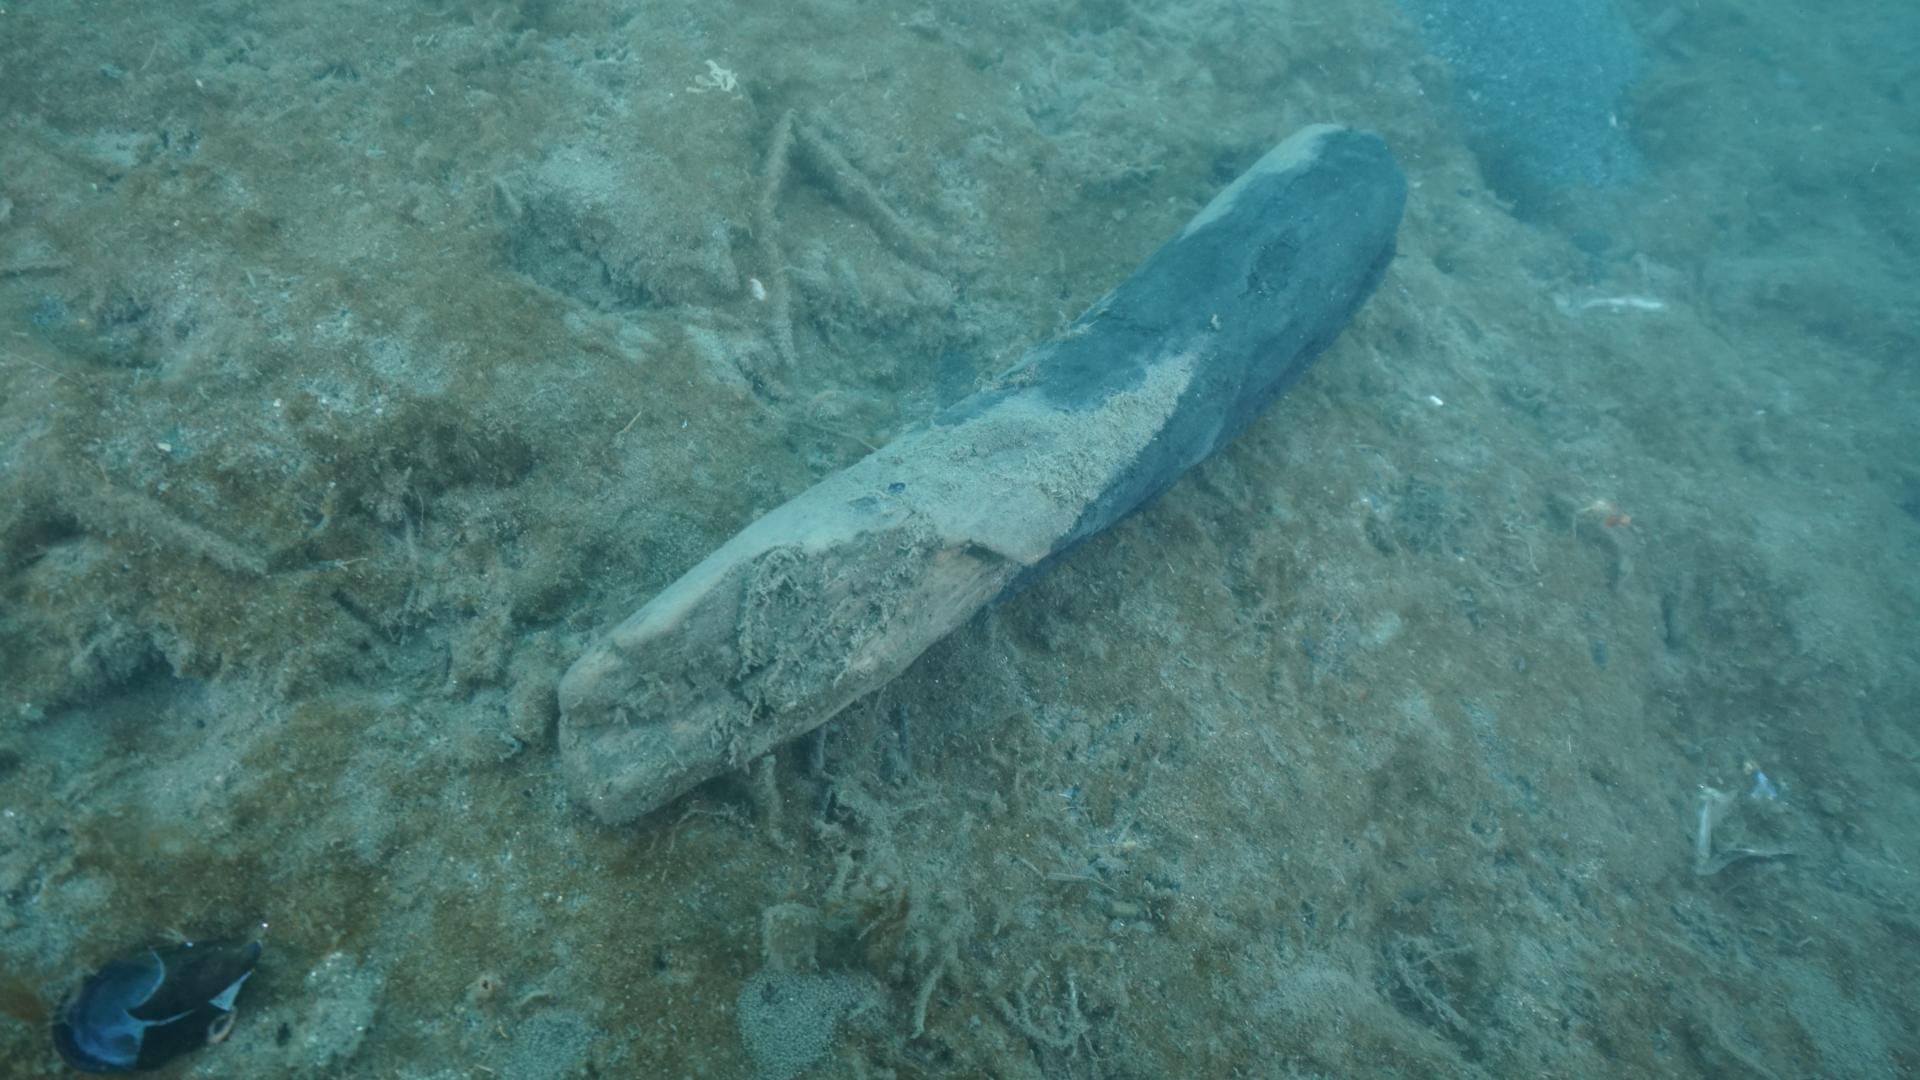wood: (559, 120, 1404, 822)
